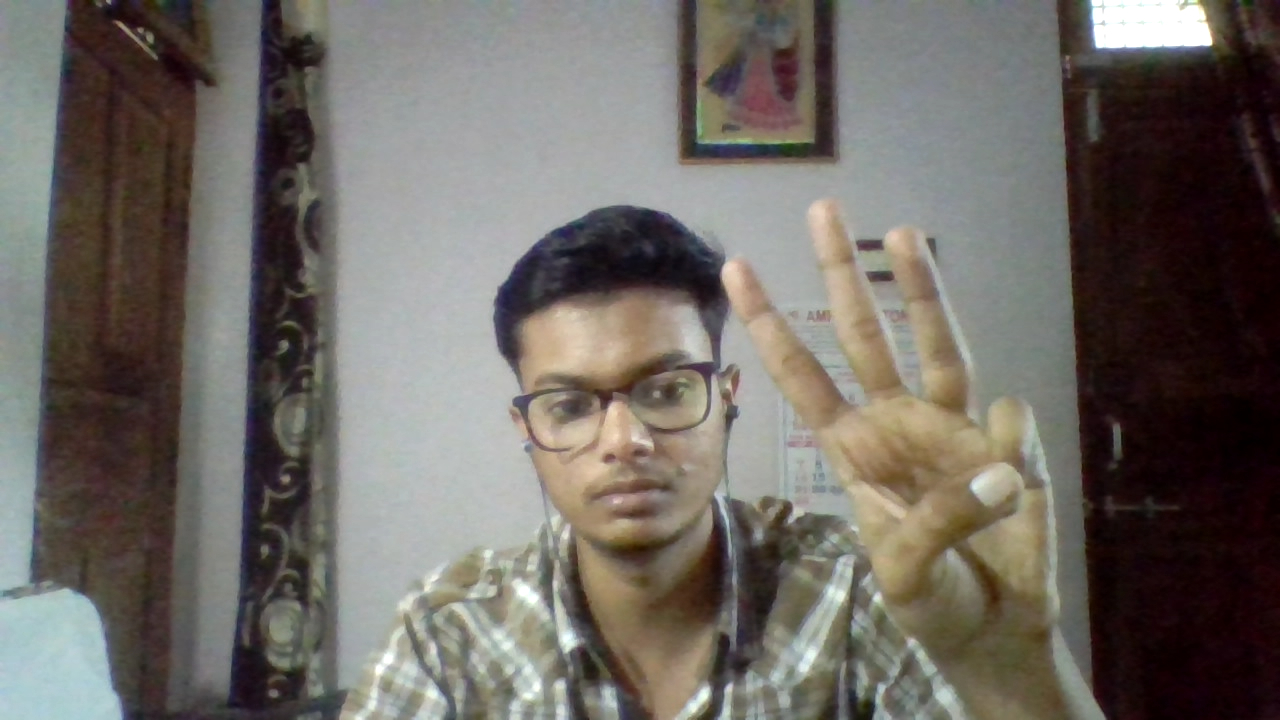three: (710, 183, 1087, 720)
